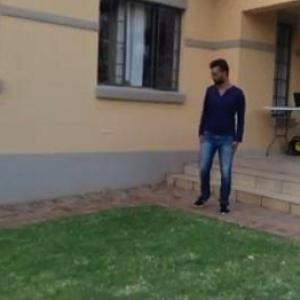follow: (193, 49, 244, 224)
